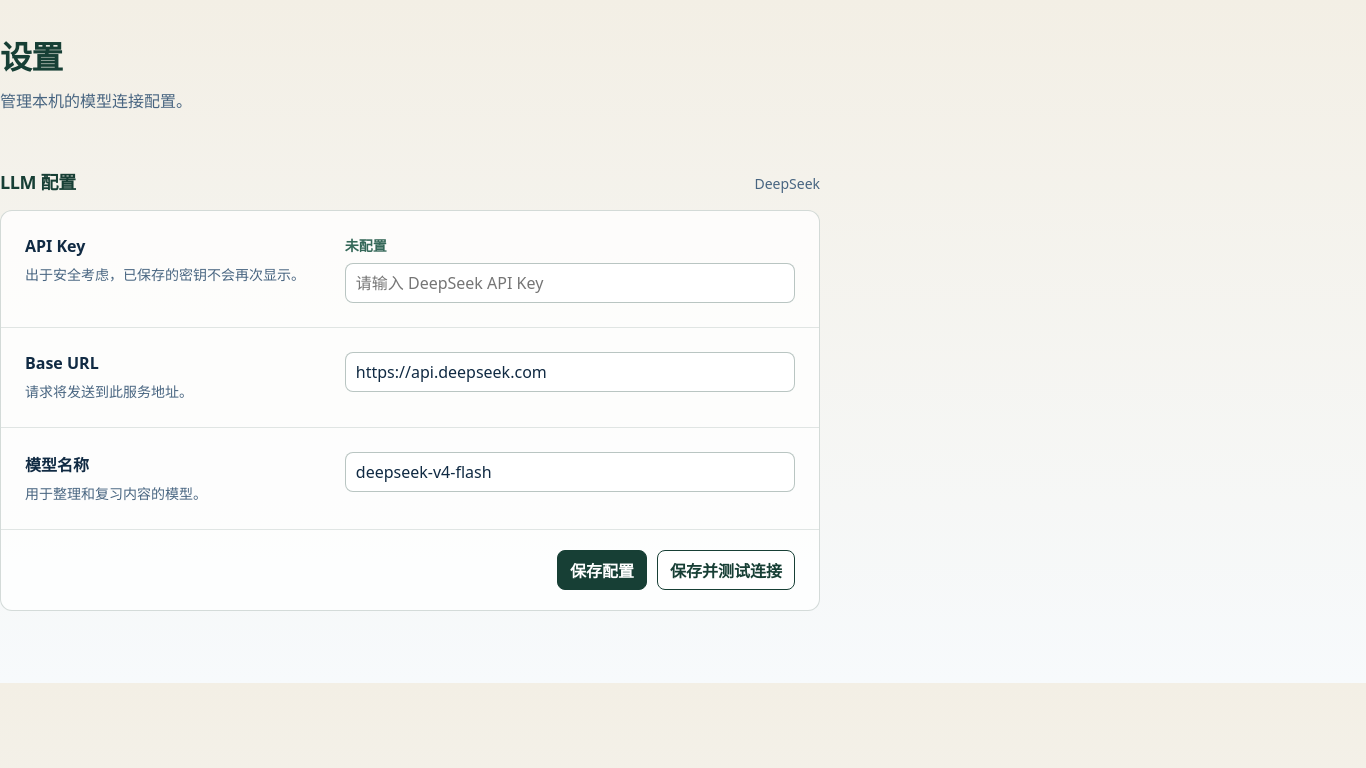
it: SettingsPage › 测试失败时展示可操作的错误提示
Expected: the button "保存并测试连接" is shown, [657, 550, 795, 590]
Type "new-key" into the password field labelled "API Key". click: [570, 283]
box: [345, 263, 795, 303]
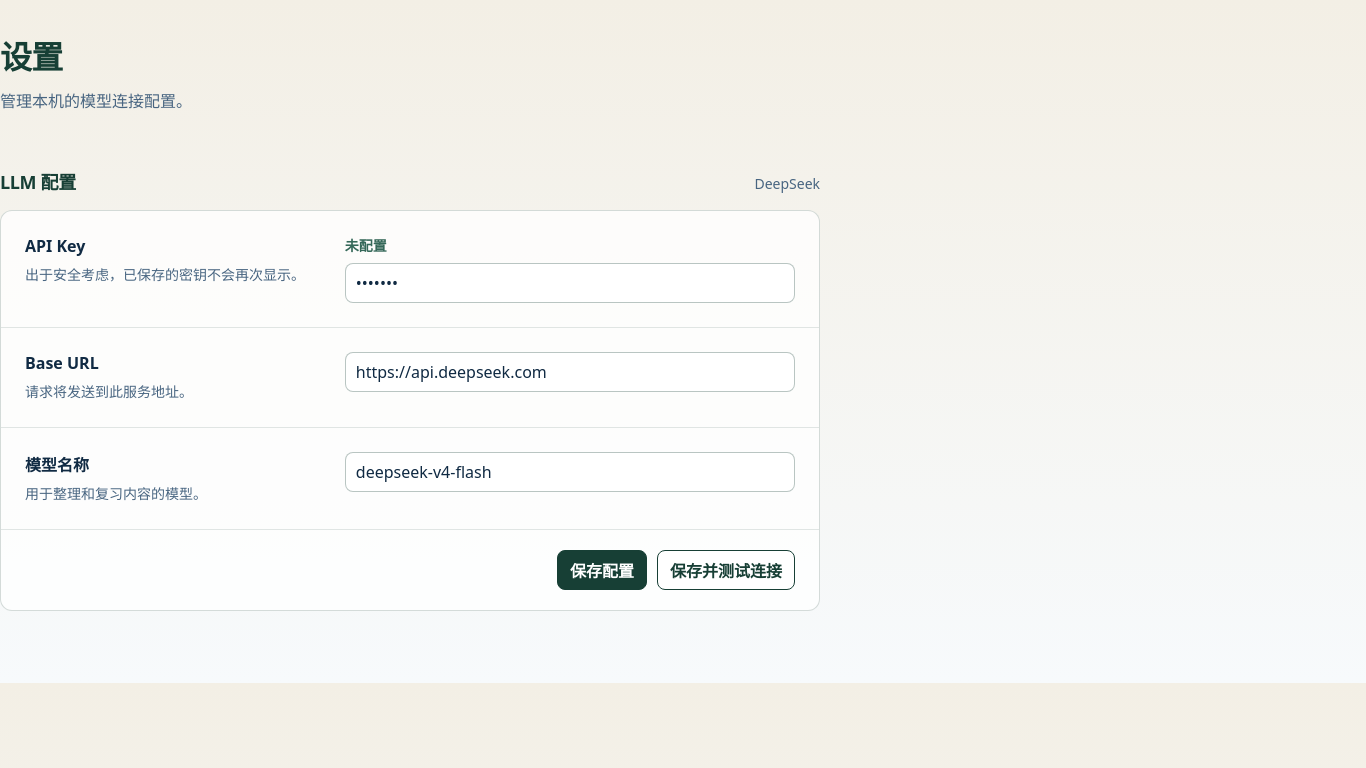
Click the button "保存并测试连接". click: [726, 570]
box: [657, 550, 795, 590]
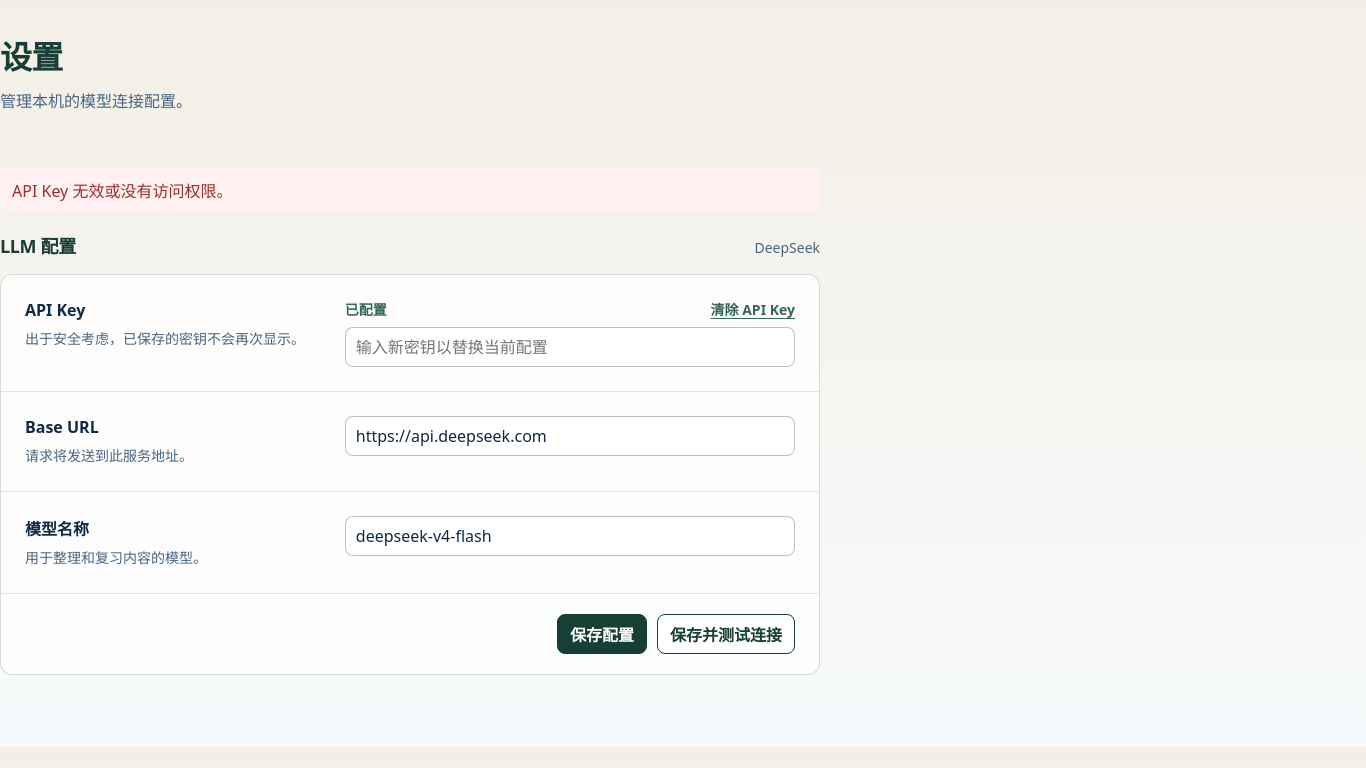
Result: the message reads "API Key 无效或没有访问权限。" at [12, 180, 232, 202]
Result: the text "已配置" is shown at [345, 299, 387, 319]
